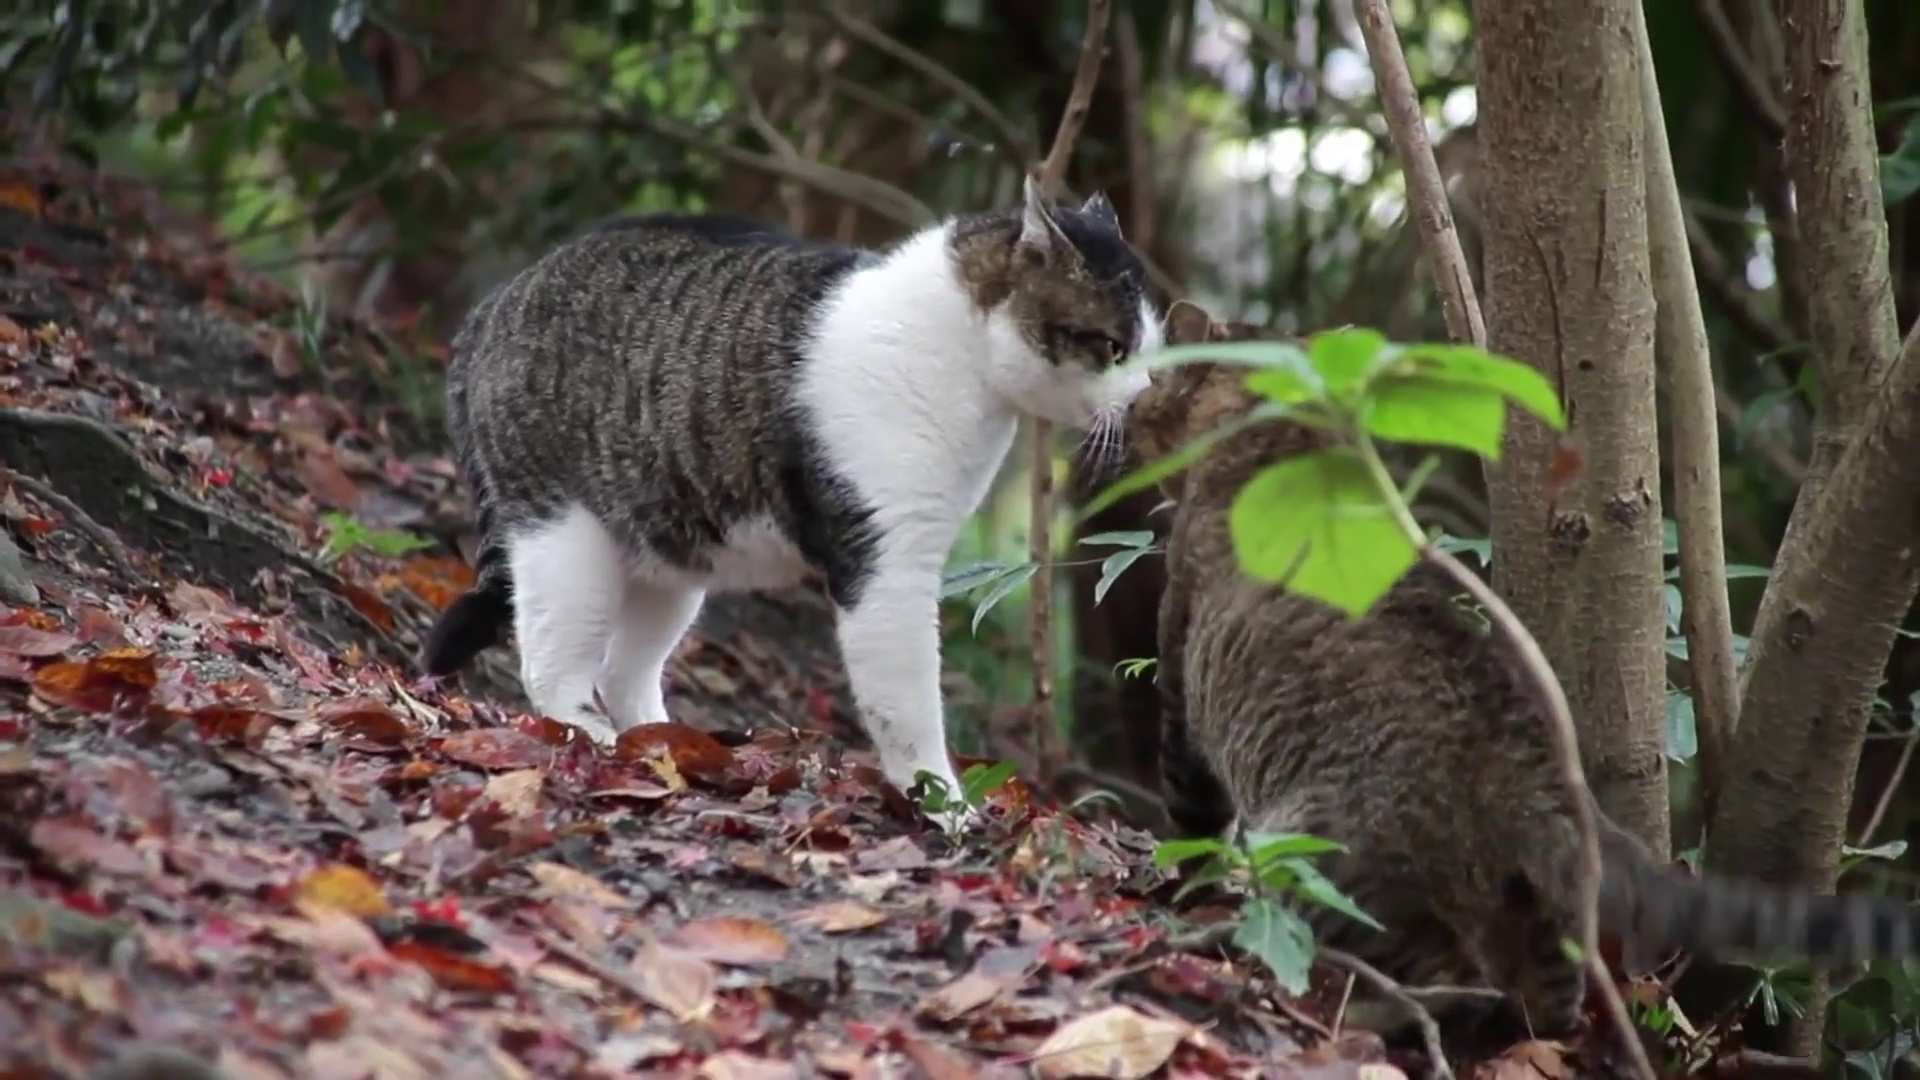black-white: (417, 174, 1160, 831)
pure black: (1127, 297, 1601, 1021)
